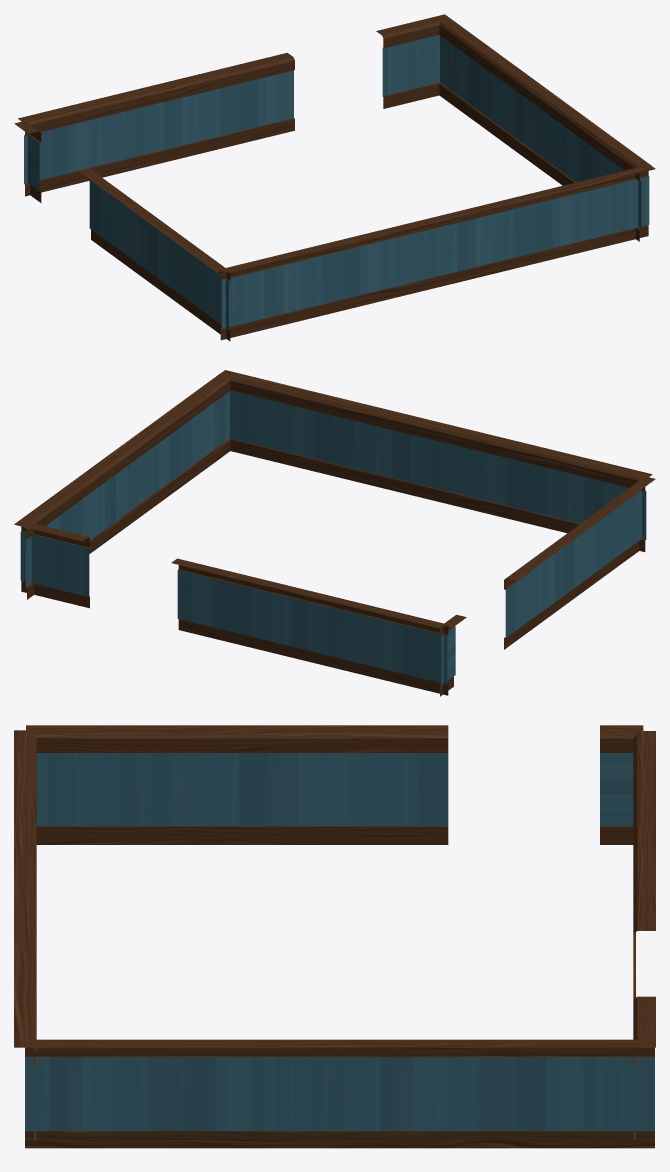
Rendered from WallTrim.fbx.
3 renders of one model, top to bottom at view 1: azimuth 30°, elevation 25°; view 2: azimuth 150°, elevation 25°; view 3: azimuth 270°, elevation 25°, orthographic. The views are drawn at different scales.
Visible parts, largest first — view 1: WallLowerPartition; view 2: WallLowerPartition; view 3: WallLowerPartition.
Part boxes in pixels (x1=…): WallLowerPartition: x1=14, y1=14, x2=655, y2=341; WallLowerPartition: x1=14, y1=370, x2=655, y2=696; WallLowerPartition: x1=14, y1=725, x2=655, y2=1148.
Bounding box in the file's own units: 62790 × 10000 × 52831.
